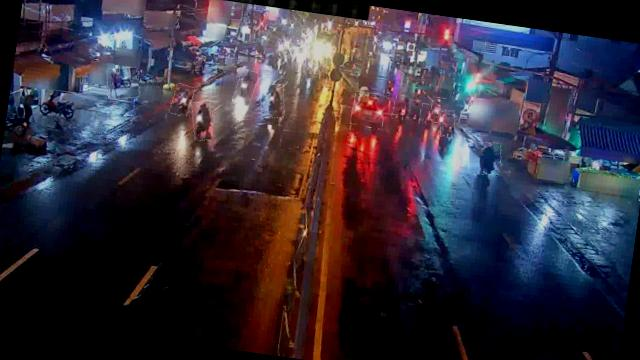Bike: (464, 140, 502, 177), (104, 64, 142, 100), (40, 88, 80, 122), (188, 98, 215, 142), (256, 82, 286, 120), (233, 68, 258, 105), (170, 84, 194, 116), (437, 109, 457, 138), (428, 96, 446, 121), (418, 102, 434, 126), (392, 94, 406, 120), (406, 99, 421, 120)
Car: (351, 90, 386, 128)
